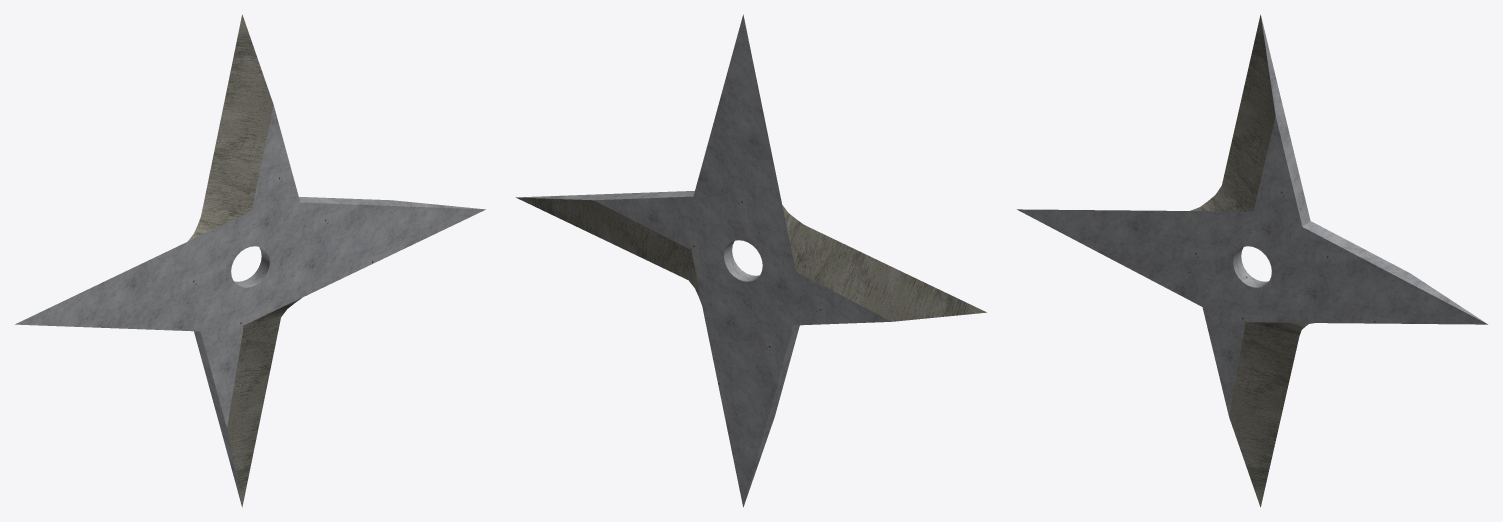
File: Shuriken_4.obj
3 renders of one model, left to right at view 1: azimuth 30°, elevation 25°; view 2: azimuth 150°, elevation 25°; view 3: azimuth 330°, elevation 25°, orthographic.
Visible parts, largest first — view 1: Shuriken_4; view 2: Shuriken_4; view 3: Shuriken_4.
Part boxes in pixels (x1=…): Shuriken_4: x1=15, y1=14, x2=485, y2=506; Shuriken_4: x1=516, y1=14, x2=986, y2=507; Shuriken_4: x1=1017, y1=14, x2=1487, y2=507.
Bounding box in the file's own units: 0.1 × 0.1 × 0.003.
1 material, 1 textured.
